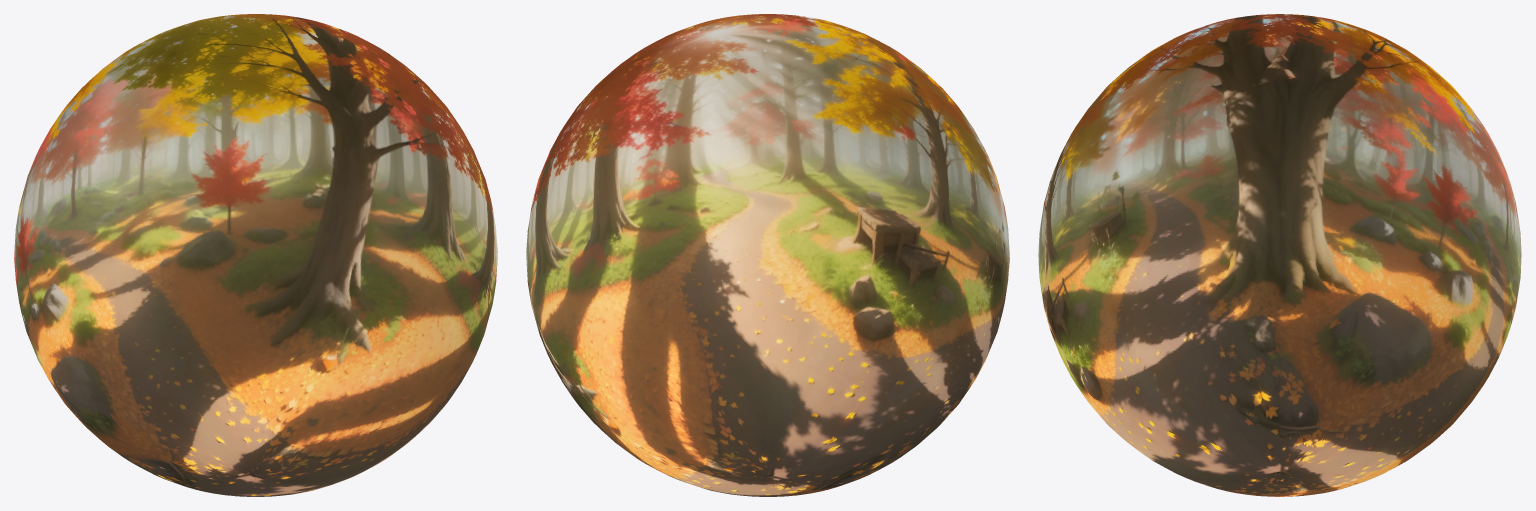
The picture shows the model from 3 angles, left to right: view 1: azimuth 30°, elevation 25°; view 2: azimuth 150°, elevation 25°; view 3: azimuth 270°, elevation 25°; orthographic projection.
Parts seen in each view (by area): view 1: Sphere__0; view 2: Sphere__0; view 3: Sphere__0.
Boxes of the visible parts, bbox=[...] form: Sphere__0: bbox=[14, 14, 497, 496]; Sphere__0: bbox=[526, 14, 1009, 496]; Sphere__0: bbox=[1038, 14, 1521, 496].
Bounding box in the file's own units: 1000 × 1000 × 1000.
1 material, 1 textured.
